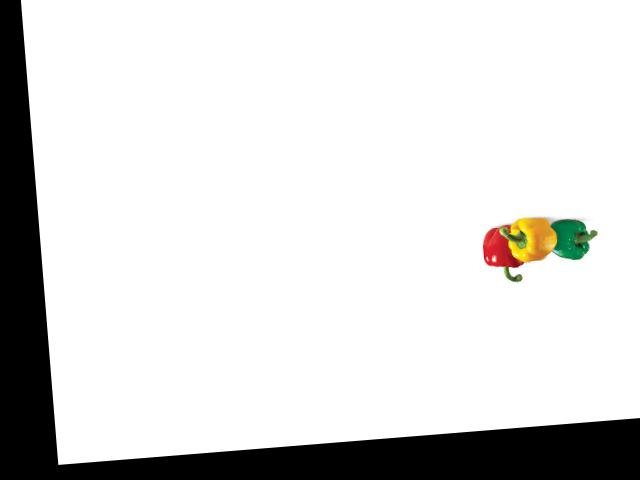bell_pepper: (543, 212, 597, 265)
